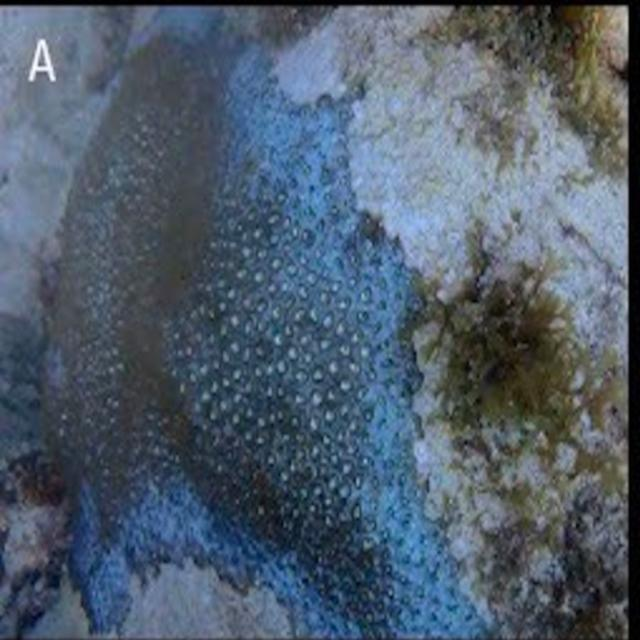Coral: (39, 5, 505, 637)
